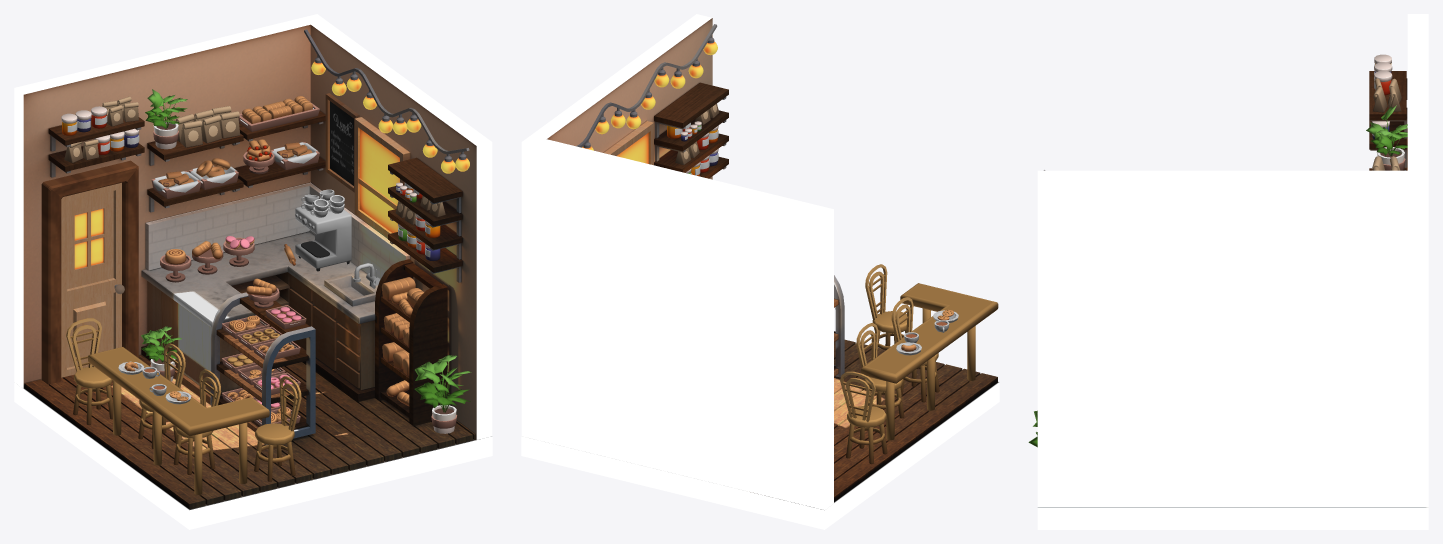
3 renders of one model, left to right at view 1: azimuth 30°, elevation 25°; view 2: azimuth 150°, elevation 25°; view 3: azimuth 270°, elevation 25°, orthographic. The views are drawn at different scales.
Parts seen in each view (by area): view 1: Isometric_cafe_202, Cube.003_9, Cube.002_10, Cube.062_42, Cube_8, Cylinder.067_31, Cylinder.070_34, Cylinder.020_68, Cylinder.066_30, Cylinder.018_67, Cylinder.069_33, Cylinder.068_32 (+3 smaller); view 2: Isometric_cafe_202, Cube.062_42, Cylinder.067_31, Cylinder.066_30, Cylinder.070_34, Cylinder.068_32, Cylinder.069_33, Plane.016_194; view 3: Isometric_cafe_202, Cylinder.018_67.
Part boxes in pixels (x1=…): Isometric_cafe_202: x1=14, y1=14, x2=492, y2=529; Cube.003_9: x1=61, y1=182, x2=124, y2=377; Cube.002_10: x1=41, y1=160, x2=138, y2=384; Cube.062_42: x1=88, y1=347, x2=269, y2=436; Cube_8: x1=295, y1=206, x2=351, y2=271; Cylinder.067_31: x1=66, y1=318, x2=112, y2=424; Cylinder.070_34: x1=254, y1=376, x2=301, y2=481; Cylinder.020_68: x1=414, y1=355, x2=471, y2=433; Cylinder.066_30: x1=113, y1=380, x2=247, y2=495; Cylinder.018_67: x1=145, y1=89, x2=187, y2=149; Cylinder.069_33: x1=173, y1=369, x2=221, y2=474; Cylinder.068_32: x1=138, y1=343, x2=185, y2=448; Isometric_cafe_202: x1=521, y1=14, x2=999, y2=529; Cube.062_42: x1=861, y1=283, x2=998, y2=383; Cylinder.067_31: x1=840, y1=371, x2=887, y2=464; Cylinder.066_30: x1=886, y1=308, x2=975, y2=440; Cylinder.070_34: x1=865, y1=264, x2=906, y2=353; Cylinder.068_32: x1=856, y1=323, x2=904, y2=426; Cylinder.069_33: x1=891, y1=297, x2=939, y2=402; Plane.016_194: x1=576, y1=24, x2=717, y2=147; Isometric_cafe_202: x1=1037, y1=14, x2=1428, y2=529; Cylinder.018_67: x1=1366, y1=105, x2=1407, y2=170.
Bounding box in the file's own units: 2 × 1.98 × 2.05.
Materials: 7 (6 with a texture image).
